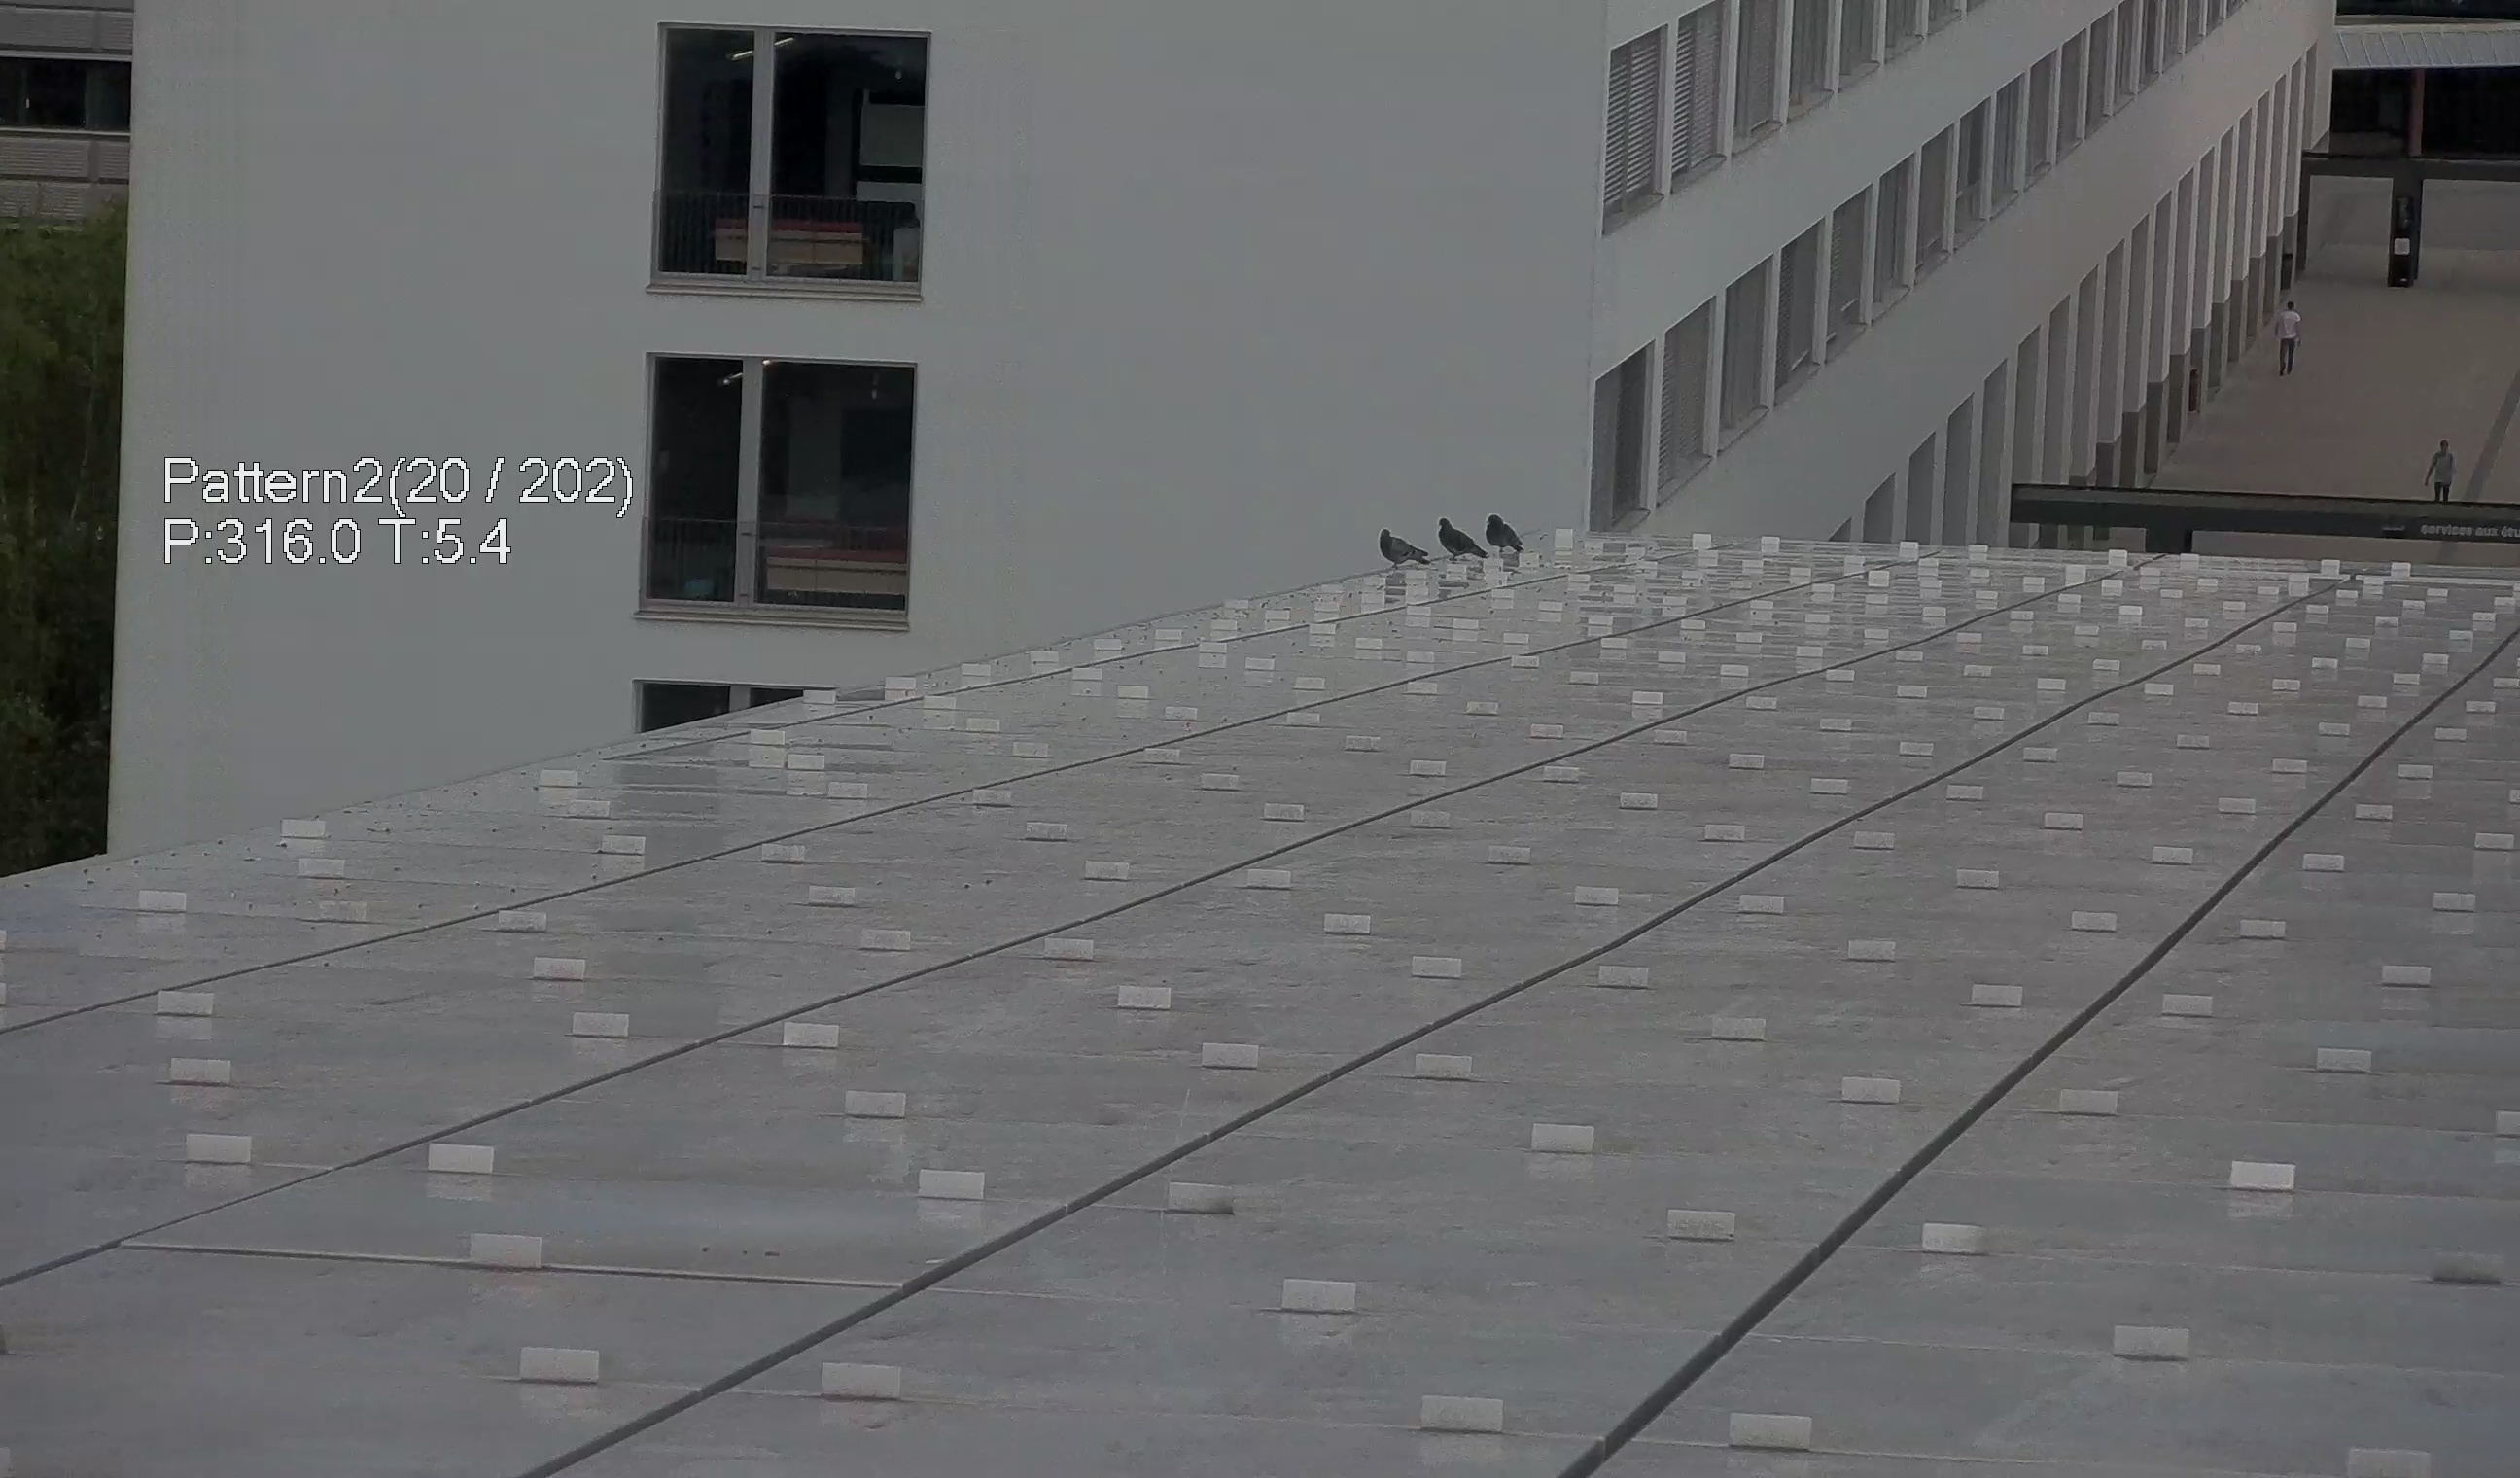Pigeon: (1479, 505, 1528, 554), (1375, 530, 1431, 570), (1431, 514, 1481, 558)
